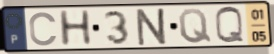3: (103, 9, 132, 46)
C: (28, 11, 60, 48)
H: (57, 9, 95, 49)
N: (135, 6, 170, 47)
Q: (177, 7, 214, 45), (213, 5, 247, 46)
